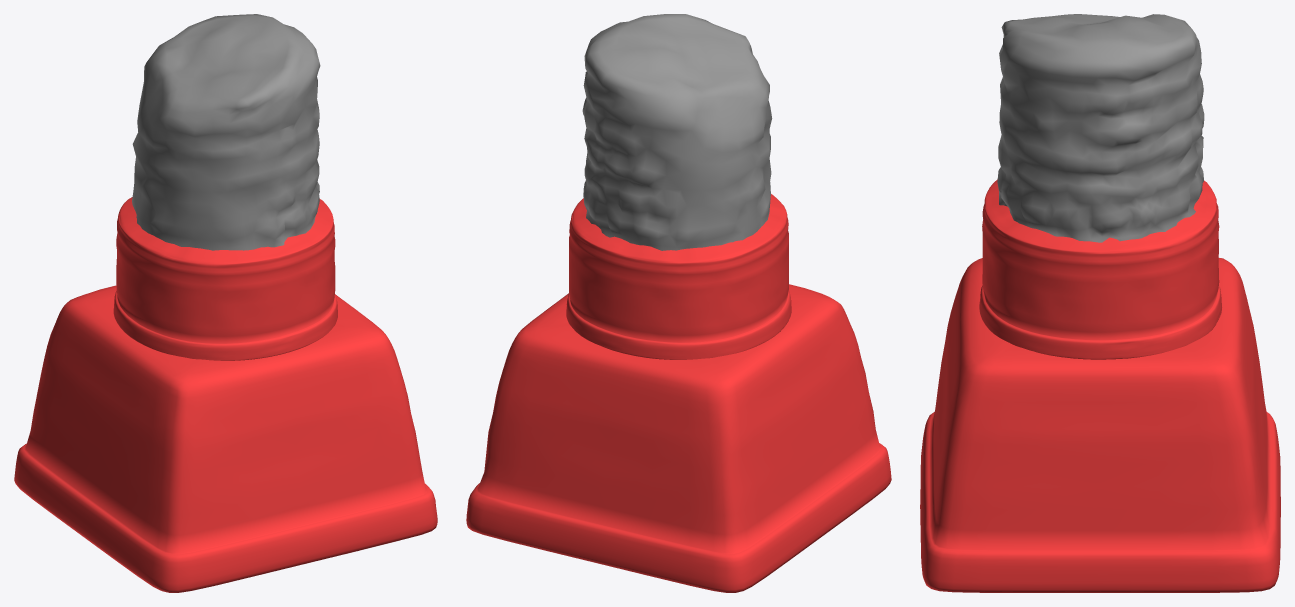
Rendered from DpillarB.FBX.
The picture shows the model from 3 angles, left to right: view 1: azimuth 30°, elevation 25°; view 2: azimuth 150°, elevation 25°; view 3: azimuth 270°, elevation 25°; orthographic projection. The views are drawn at different scales.
Visible parts, largest first — view 1: pedestal, DpillarB; view 2: pedestal, DpillarB; view 3: pedestal, DpillarB.
Boxes of the visible parts, <box> form: pedestal: <box>14,197,437,592</box>; DpillarB: <box>132,14,320,250</box>; pedestal: <box>466,194,891,592</box>; DpillarB: <box>582,14,772,250</box>; pedestal: <box>920,179,1280,592</box>; DpillarB: <box>997,14,1204,242</box>.
Size of the model in its own units: 0.5835 by 0.9117 by 0.5835.
